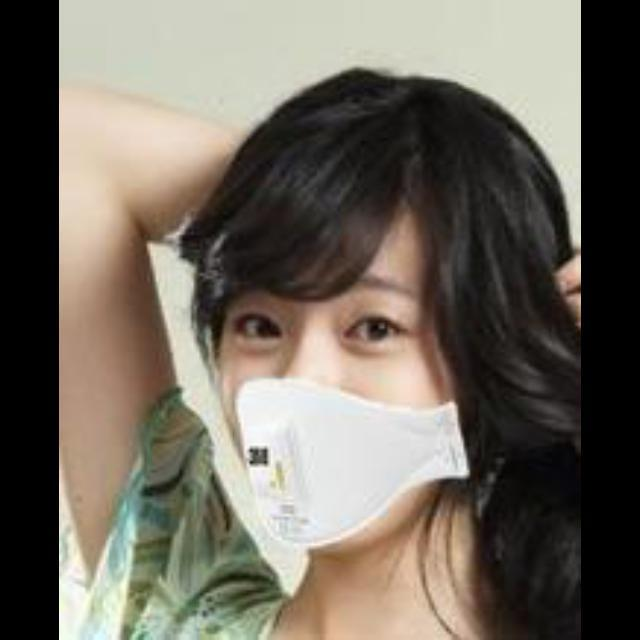suspicion: (167, 106, 495, 578)
